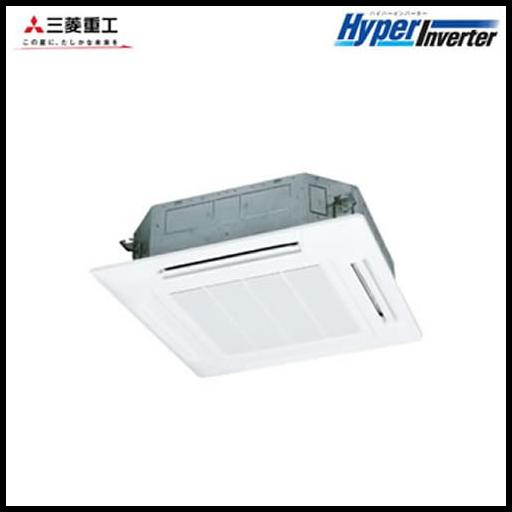4-way-ac: (90, 211, 419, 379)
